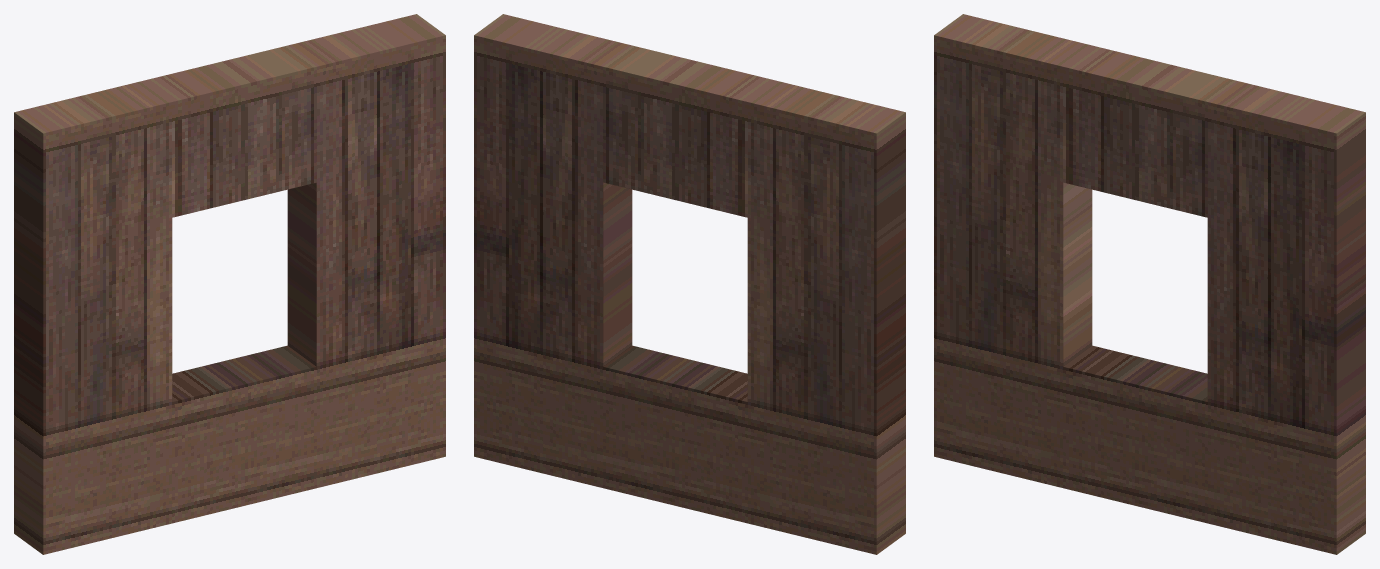
File: wallWindowWood-thick.glb
3 renders of one model, left to right at view 1: azimuth 30°, elevation 25°; view 2: azimuth 150°, elevation 25°; view 3: azimuth 330°, elevation 25°, orthographic.
Parts seen in each view (by area): view 1: wallWindowWood; view 2: wallWindowWood; view 3: wallWindowWood.
Part boxes in pixels (<box>): wallWindowWood: <box>14,14,445,554</box>; wallWindowWood: <box>474,14,905,554</box>; wallWindowWood: <box>934,14,1365,554</box>.
Bounding box in the file's own units: 4 × 4 × 0.5.
Materials: 1 (1 with a texture image).
